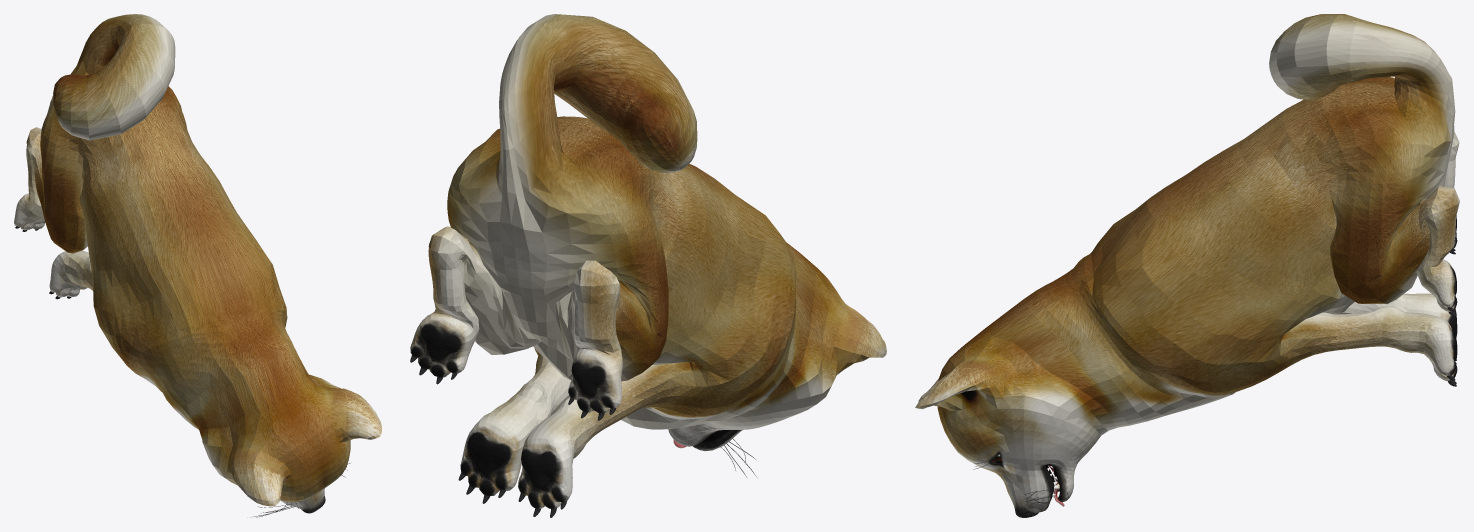
The model's file is Shiba Inu - seduto.obj.
The picture shows the model from 3 angles, left to right: view 1: azimuth 30°, elevation 25°; view 2: azimuth 150°, elevation 25°; view 3: azimuth 270°, elevation 25°; orthographic projection. The views are drawn at different scales.
Parts seen in each view (by area): view 1: Object.1; view 2: Object.1; view 3: Object.1.
Boxes of the visible parts, left/top/right/bottom form: Object.1: left=14, top=14, right=381, bottom=517; Object.1: left=410, top=14, right=886, bottom=517; Object.1: left=915, top=14, right=1459, bottom=517.
Size of the model in its own units: 383 by 872 by 887.
Materials: 1 (1 with a texture image).
